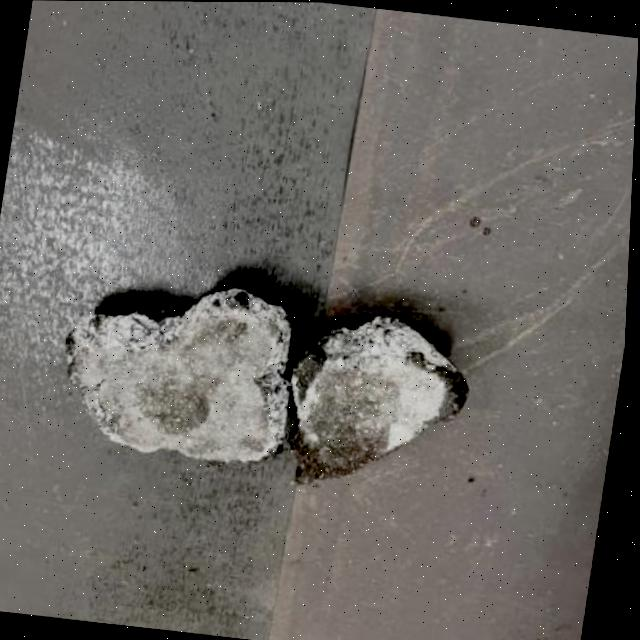Road Debris: (63, 295, 283, 463), (289, 338, 411, 495)
